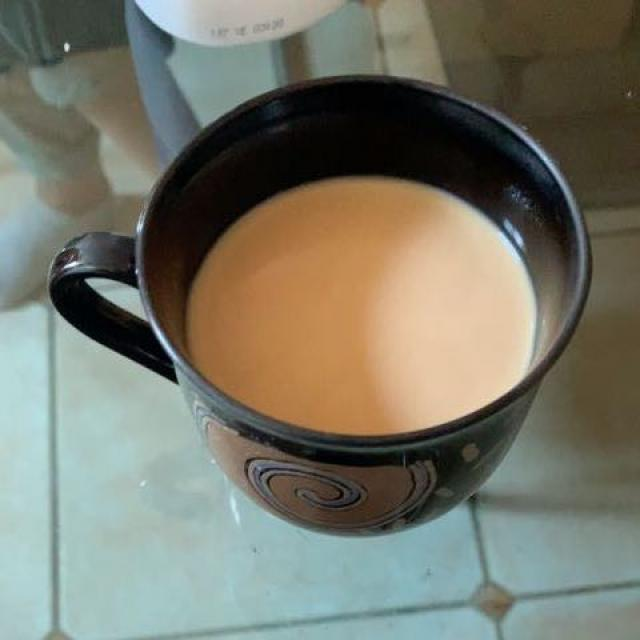coffee: (191, 173, 534, 433)
